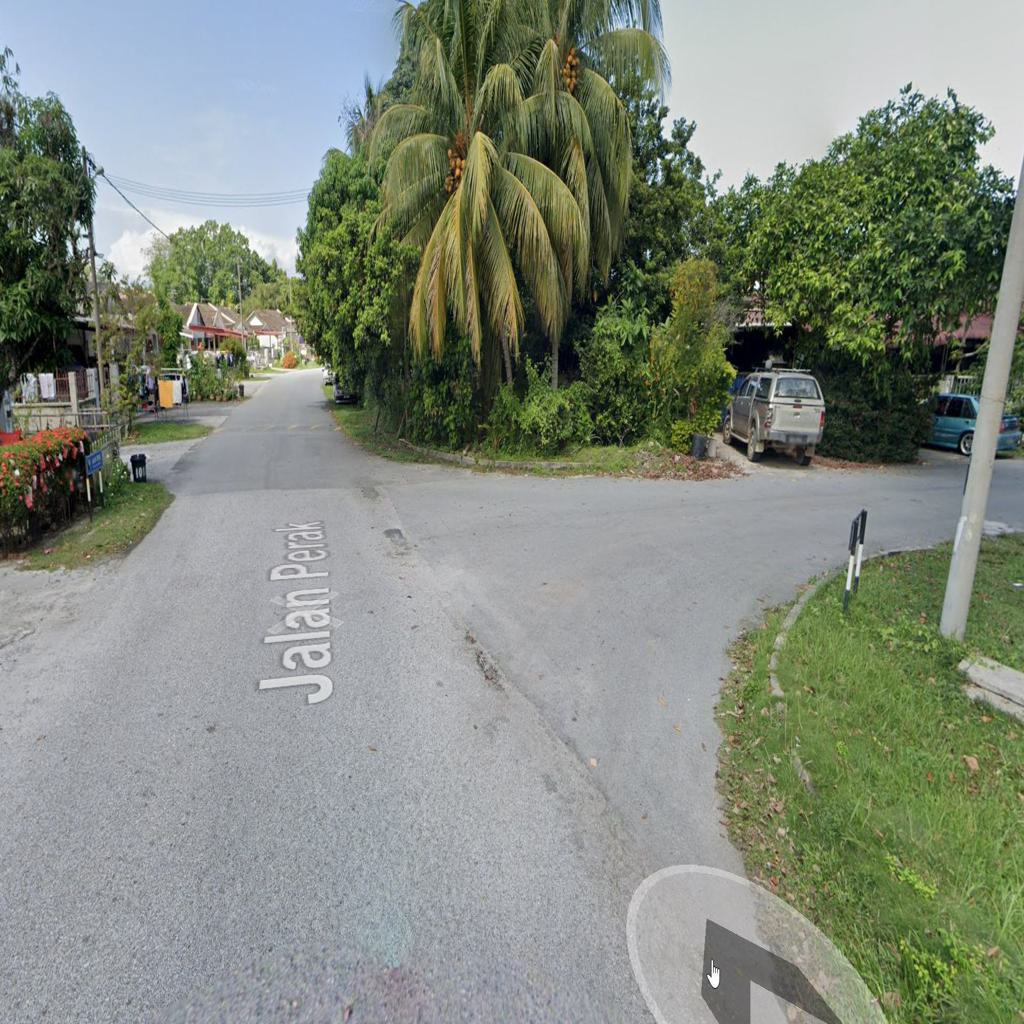Junction: (432, 424, 952, 756)
